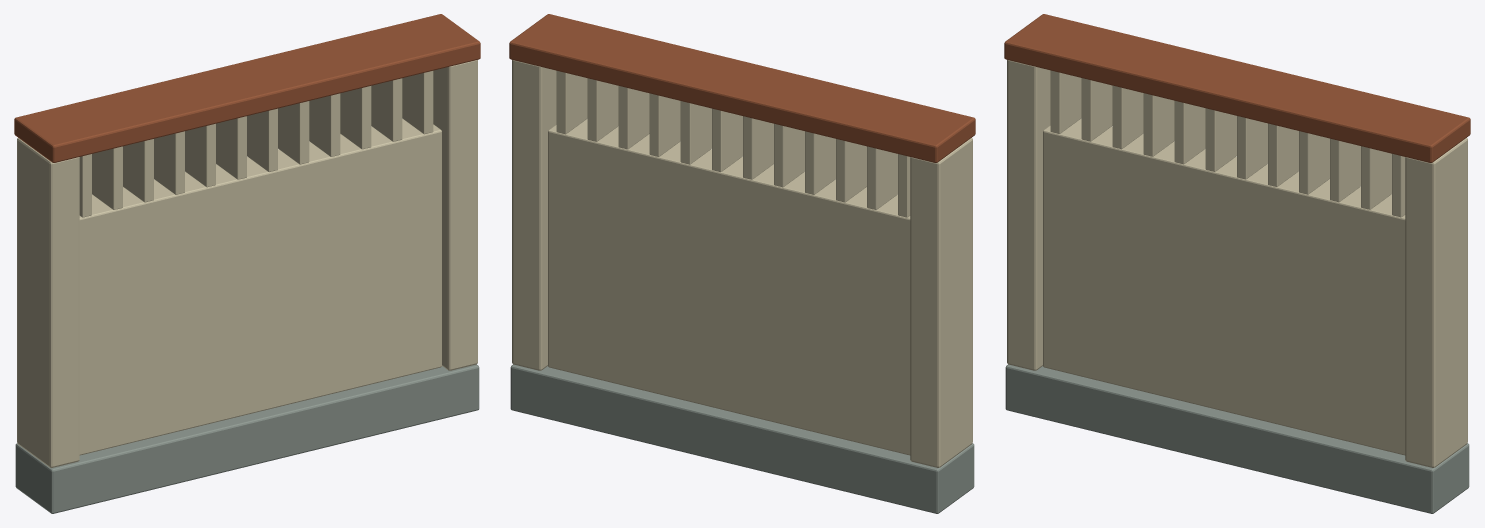
3 views of the same model, side by side, from view 1: azimuth 30°, elevation 25°; view 2: azimuth 150°, elevation 25°; view 3: azimuth 330°, elevation 25° (orthographic).
Parts seen in each view (by area): view 1: WALL_Infill, WALL_Cap, WALL_Base, WALL_EndPier, WALL_EndPier.001, VENT_Upright_7, VENT_Upright_8, VENT_Upright_10, VENT_Upright_9, VENT_Upright_11, VENT_Upright_1, VENT_Upright_2 (+5 smaller); view 2: WALL_Infill, WALL_Cap, WALL_Base, WALL_EndPier, WALL_EndPier.001, VENT_Upright_7, VENT_Upright_8, VENT_Upright_10, VENT_Upright_9, VENT_Upright_11, VENT_Upright_1, VENT_Upright_2 (+5 smaller); view 3: WALL_Infill, WALL_Cap, WALL_Base, WALL_EndPier.001, WALL_EndPier, VENT_Upright_5, VENT_Upright_3, VENT_Upright_4, VENT_Upright_2, VENT_Upright_1, VENT_Upright_0, VENT_Upright_9 (+5 smaller).
Boxes of the visible parts, left/top/right/bottom form: WALL_Infill: left=79, top=119, right=441, bottom=455; WALL_Cap: left=14, top=14, right=480, bottom=162; WALL_Base: left=15, top=364, right=479, bottom=513; WALL_EndPier: left=17, top=138, right=79, bottom=467; WALL_EndPier.001: left=433, top=60, right=477, bottom=370; VENT_Upright_7: left=278, top=101, right=309, bottom=164; VENT_Upright_8: left=309, top=93, right=340, bottom=156; VENT_Upright_10: left=371, top=78, right=402, bottom=141; VENT_Upright_9: left=340, top=86, right=371, bottom=149; VENT_Upright_11: left=402, top=71, right=433, bottom=134; VENT_Upright_1: left=92, top=146, right=122, bottom=209; VENT_Upright_2: left=123, top=139, right=153, bottom=202; WALL_Infill: left=548, top=119, right=910, bottom=455; WALL_Cap: left=509, top=14, right=975, bottom=162; WALL_Base: left=510, top=364, right=974, bottom=513; WALL_EndPier: left=910, top=138, right=972, bottom=467; WALL_EndPier.001: left=512, top=60, right=556, bottom=370; VENT_Upright_7: left=680, top=101, right=711, bottom=164; VENT_Upright_8: left=649, top=93, right=680, bottom=156; VENT_Upright_10: left=587, top=78, right=618, bottom=141; VENT_Upright_9: left=618, top=86, right=649, bottom=149; VENT_Upright_11: left=556, top=71, right=587, bottom=134; VENT_Upright_1: left=867, top=146, right=897, bottom=209; VENT_Upright_2: left=836, top=139, right=866, bottom=202; WALL_Infill: left=1043, top=118, right=1405, bottom=455; WALL_Cap: left=1004, top=14, right=1470, bottom=162; WALL_Base: left=1005, top=364, right=1469, bottom=513; WALL_EndPier.001: left=1405, top=138, right=1467, bottom=467; WALL_EndPier: left=1007, top=60, right=1050, bottom=370; VENT_Upright_5: left=1205, top=108, right=1236, bottom=171; VENT_Upright_3: left=1143, top=93, right=1174, bottom=156; VENT_Upright_4: left=1174, top=101, right=1205, bottom=164; VENT_Upright_2: left=1112, top=85, right=1143, bottom=149; VENT_Upright_1: left=1081, top=78, right=1112, bottom=141; VENT_Upright_0: left=1050, top=70, right=1081, bottom=133; VENT_Upright_9: left=1330, top=138, right=1360, bottom=202.
Size of the model in its own units: 2 by 1.65 by 0.32.
